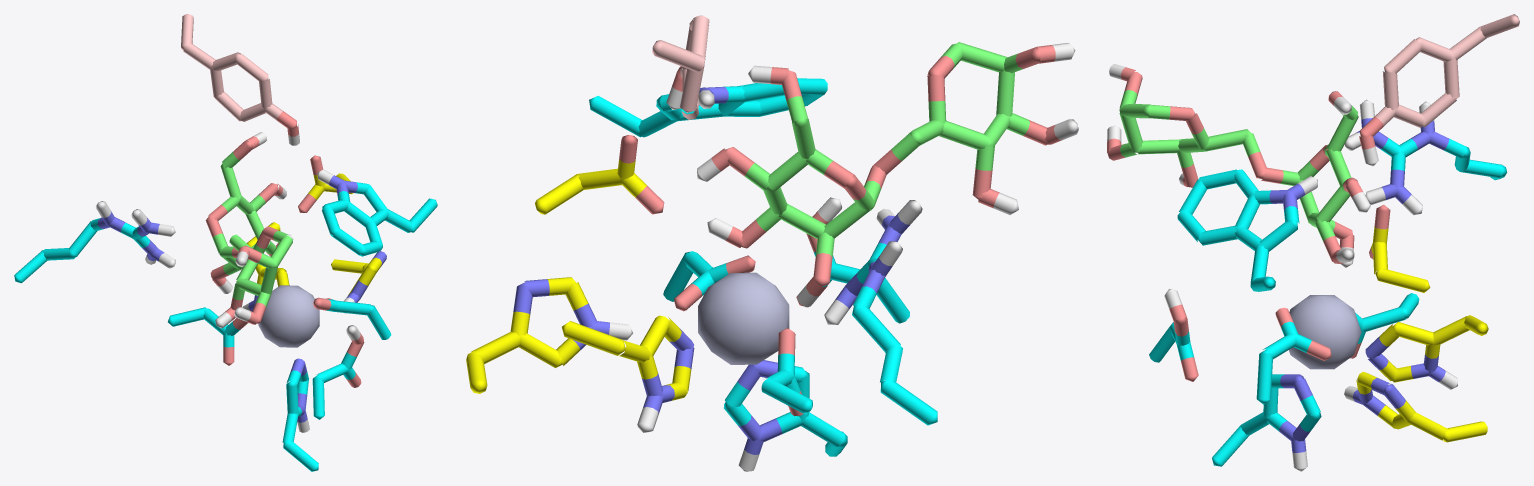
The model's file is hLAMAN_as.gltf.
3 views of the same model, side by side, from view 1: azimuth 30°, elevation 25°; view 2: azimuth 150°, elevation 25°; view 3: azimuth 270°, elevation 25° (orthographic). The views are drawn at different scales.
Parts seen in each view (by area): view 1: node-geom164, node-geom112, node-geom50, node-geom85, node-geom91; view 2: node-geom164, node-geom91, node-geom133, node-geom93, node-geom69, node-geom152, node-geom146, node-geom85, node-geom15, node-geom0, node-geom121, node-geom30 (+14 smaller); view 3: node-geom164, node-geom146, node-geom63, node-geom120, node-geom86, node-geom50, node-geom20, node-geom135, node-geom158, node-geom71, node-geom10, node-geom45 (+18 smaller).
Boxes of the visible parts, left/top/right/bottom form: node-geom164: left=258, top=285, right=319, bottom=347; node-geom112: left=312, top=375, right=324, bottom=419; node-geom50: left=283, top=441, right=318, bottom=471; node-geom85: left=168, top=307, right=206, bottom=326; node-geom91: left=14, top=250, right=47, bottom=283; node-geom164: left=698, top=272, right=789, bottom=364; node-geom91: left=880, top=380, right=937, bottom=425; node-geom133: left=562, top=321, right=625, bottom=355; node-geom93: left=852, top=305, right=900, bottom=352; node-geom69: left=589, top=95, right=642, bottom=137; node-geom152: left=652, top=40, right=704, bottom=71; node-geom146: left=535, top=174, right=583, bottom=214; node-geom85: left=761, top=377, right=812, bottom=414; node-geom15: left=939, top=121, right=989, bottom=149; node-geom0: left=957, top=42, right=1007, bottom=72; node-geom121: left=471, top=331, right=522, bottom=363; node-geom30: left=778, top=203, right=825, bottom=238; node-geom164: left=1289, top=295, right=1361, bottom=369; node-geom146: left=1375, top=268, right=1430, bottom=292; node-geom63: left=1256, top=350, right=1272, bottom=404; node-geom120: left=1443, top=421, right=1487, bottom=442; node-geom86: left=1361, top=307, right=1405, bottom=332; node-geom50: left=1212, top=424, right=1248, bottom=466; node-geom20: left=1205, top=129, right=1250, bottom=151; node-geom135: left=1392, top=322, right=1433, bottom=345; node-geom158: left=1384, top=39, right=1421, bottom=73; node-geom71: left=1259, top=220, right=1297, bottom=251; node-geom10: left=1138, top=139, right=1181, bottom=154; node-geom45: left=1327, top=115, right=1358, bottom=151.
Bounding box in the file's own units: 16.7 × 17.51 × 14.6.
